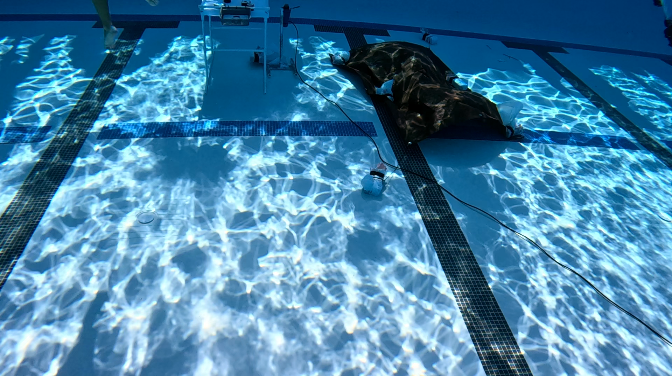pathmarker: (326, 40, 507, 148)
